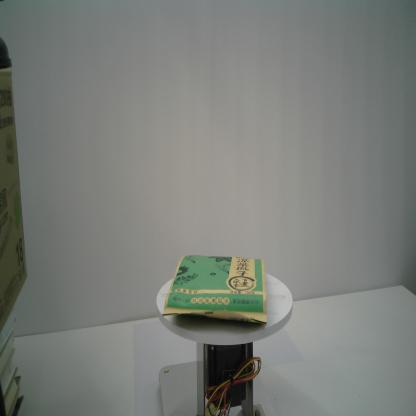Dried Food: (160, 254, 268, 326)
